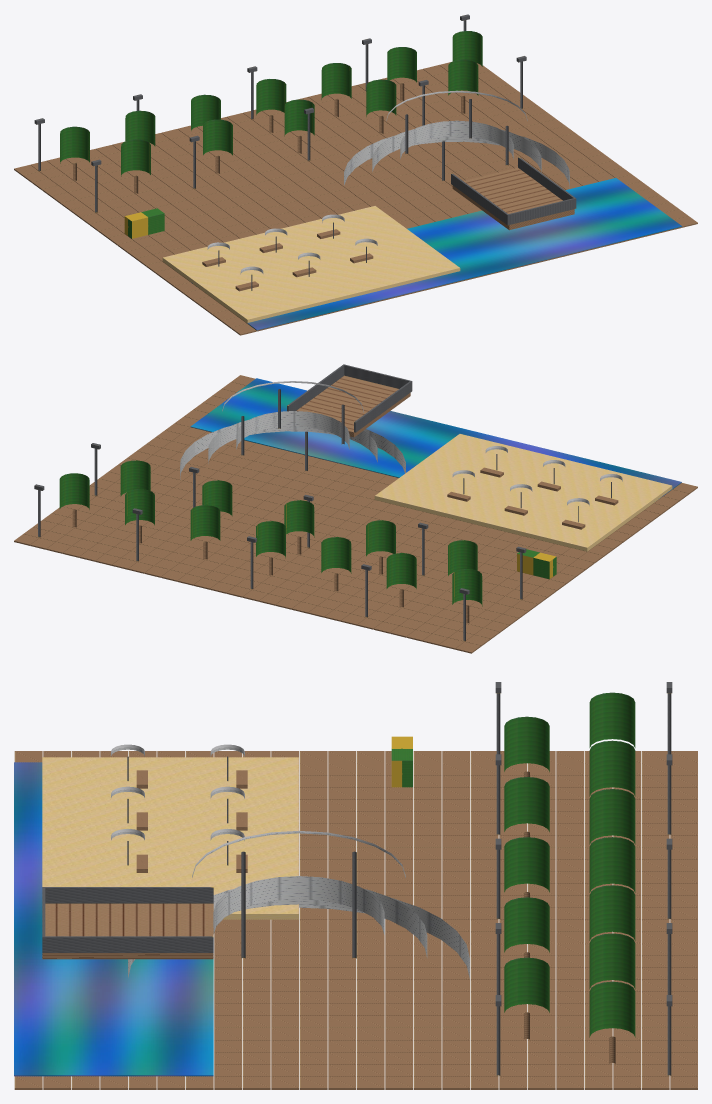
The picture shows the model from 3 angles, top to bottom: view 1: azimuth 30°, elevation 25°; view 2: azimuth 150°, elevation 25°; view 3: azimuth 270°, elevation 25°; orthographic projection. The views are drawn at different scales.
Visible parts, largest first — view 1: 28185_B15_Landmark_City_Deck; view 2: 28185_B15_Landmark_City_Deck; view 3: 28185_B15_Landmark_City_Deck.
Boxes of the visible parts, x1,y1,x2,y2 form: 28185_B15_Landmark_City_Deck: (14,14,697,335); 28185_B15_Landmark_City_Deck: (14,364,697,653); 28185_B15_Landmark_City_Deck: (14,682,697,1089).
Bounding box in the file's own units: 55.95 × 8.2 × 48.
Materials: 1 (1 with a texture image).
